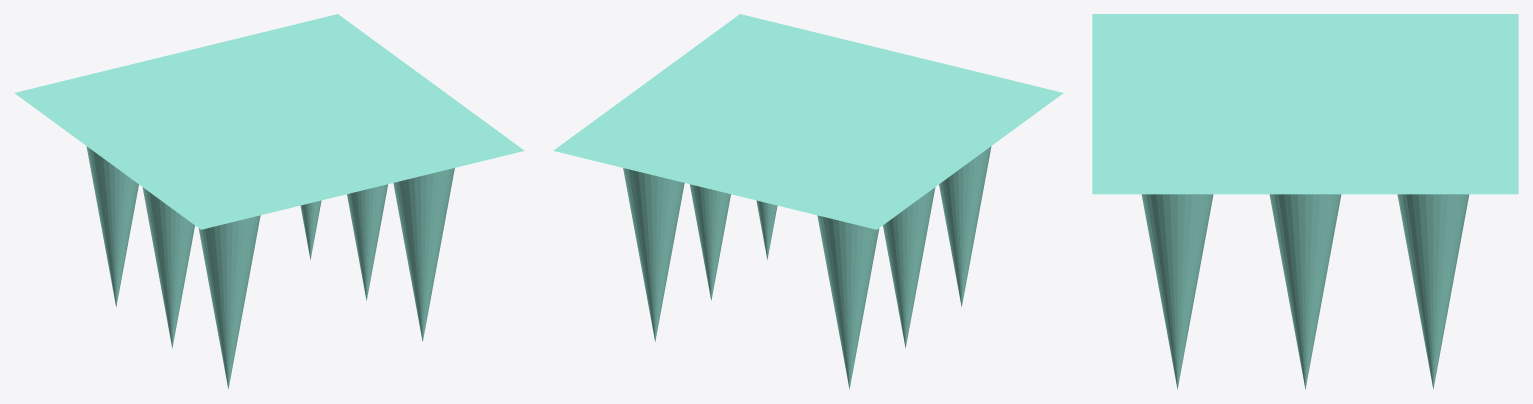
The model's file is fall needle.fbx.
3 renders of one model, left to right at view 1: azimuth 30°, elevation 25°; view 2: azimuth 150°, elevation 25°; view 3: azimuth 270°, elevation 25°, orthographic. The views are drawn at different scales.
Visible parts, largest first — view 1: 平面, 円錐.003, 円錐, 円錐.001, 円錐.002, 円錐.004, 円錐.005; view 2: 平面, 円錐.003, 円錐.005, 円錐.002, 円錐.004, 円錐, 円錐.001; view 3: 平面, 円錐.005, 円錐.004, 円錐.001, 円錐.003, 円錐.002.
Boxes of the visible parts, <box> form: 平面: <box>14,14,524,229</box>; 円錐.003: <box>79,88,153,306</box>; 円錐: <box>198,215,260,389</box>; 円錐.001: <box>393,168,454,341</box>; 円錐.002: <box>135,130,194,347</box>; 円錐.004: <box>329,82,392,300</box>; 円錐.005: <box>273,41,347,259</box>; 平面: <box>553,14,1063,229</box>; 円錐.003: <box>812,171,886,389</box>; 円錐.005: <box>618,123,692,341</box>; 円錐.002: <box>868,138,942,347</box>; 円錐.004: <box>674,88,748,300</box>; 円錐: <box>939,119,991,306</box>; 円錐.001: <box>748,69,777,259</box>; 平面: <box>1092,14,1518,194</box>; 円錐.005: <box>1391,140,1475,389</box>; 円錐.004: <box>1267,140,1347,389</box>; 円錐.001: <box>1141,149,1213,389</box>; 円錐.003: <box>1391,32,1475,67</box>; 円錐.002: <box>1283,32,1347,65</box>.
Size of the model in its own units: 1000 by 600 by 1000.
